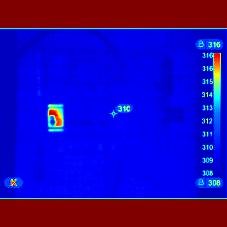Less: (49, 116, 56, 125)
